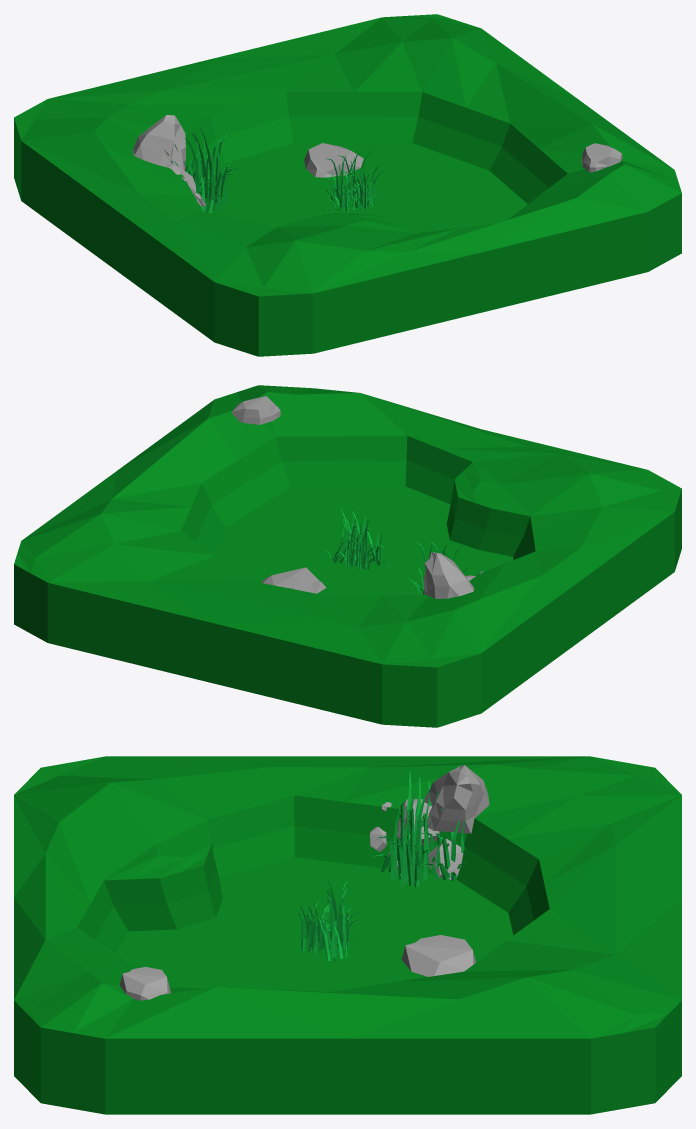
Rendered from pond2.glb.
3 renders of one model, top to bottom at view 1: azimuth 30°, elevation 25°; view 2: azimuth 150°, elevation 25°; view 3: azimuth 270°, elevation 25°, orthographic. The views are drawn at different scales.
Parts seen in each view (by area): view 1: pond, stone_2, stone_3, Cattail.014, stone_3.001, Cattail.017; view 2: pond, stone_2, stone_3.001, stone_3; view 3: pond, stone_2, stone_3, Cattail.017, stones_1, stone_3.001, Cattail.014, Cattail.018, Cattail.002, Cattail.003.
Part boxes in pixels (x1,y1,x2,y2): pond: [14, 14, 681, 356]; stone_2: [132, 115, 185, 170]; stone_3: [304, 143, 363, 177]; Cattail.014: [184, 133, 234, 210]; stone_3.001: [581, 143, 622, 172]; Cattail.017: [191, 127, 239, 204]; pond: [14, 385, 681, 727]; stone_2: [423, 552, 474, 598]; stone_3.001: [232, 396, 280, 424]; stone_3: [261, 567, 326, 593]; pond: [14, 756, 681, 1114]; stone_2: [424, 765, 489, 833]; stone_3: [401, 935, 475, 976]; Cattail.017: [386, 777, 430, 887]; stones_1: [370, 799, 463, 879]; stone_3.001: [119, 967, 170, 1000]; Cattail.014: [377, 771, 421, 880]; Cattail.018: [414, 817, 466, 880]; Cattail.002: [326, 889, 359, 951]; Cattail.003: [316, 913, 356, 962].
Bounding box in the file's own units: 6.13 × 1.27 × 6.13.
